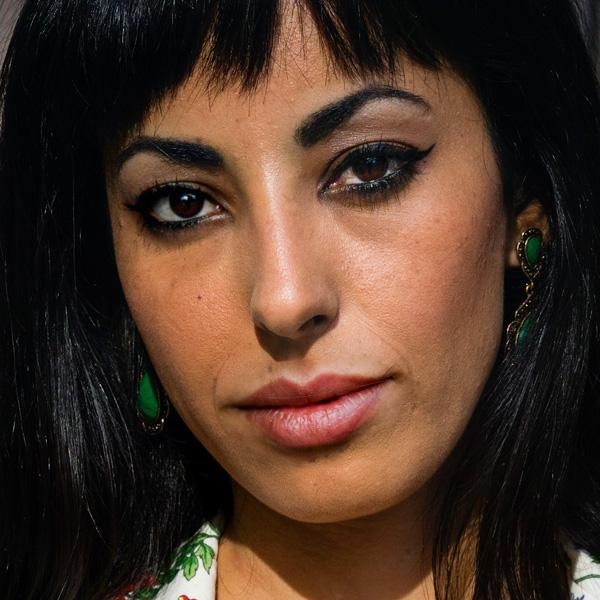Eyes: (305, 125, 442, 211), (123, 166, 242, 249)
